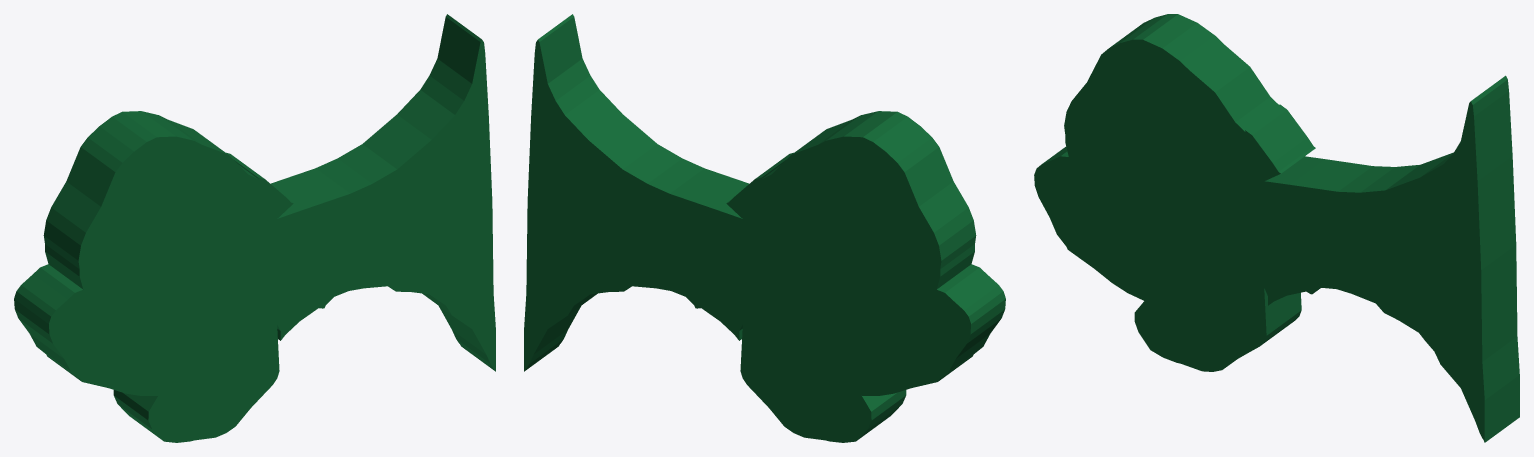
Rendered from tinker.obj.
3 renders of one model, left to right at view 1: azimuth 30°, elevation 25°; view 2: azimuth 150°, elevation 25°; view 3: azimuth 330°, elevation 25°, orthographic.
Parts seen in each view (by area): view 1: obj_0; view 2: obj_0; view 3: obj_0.
Boxes of the visible parts, bbox=[...] form: obj_0: bbox=[14, 14, 495, 442]; obj_0: bbox=[524, 14, 1005, 442]; obj_0: bbox=[1034, 14, 1519, 442].
Bounding box in the file's own units: 74.15 × 53.21 × 10.
